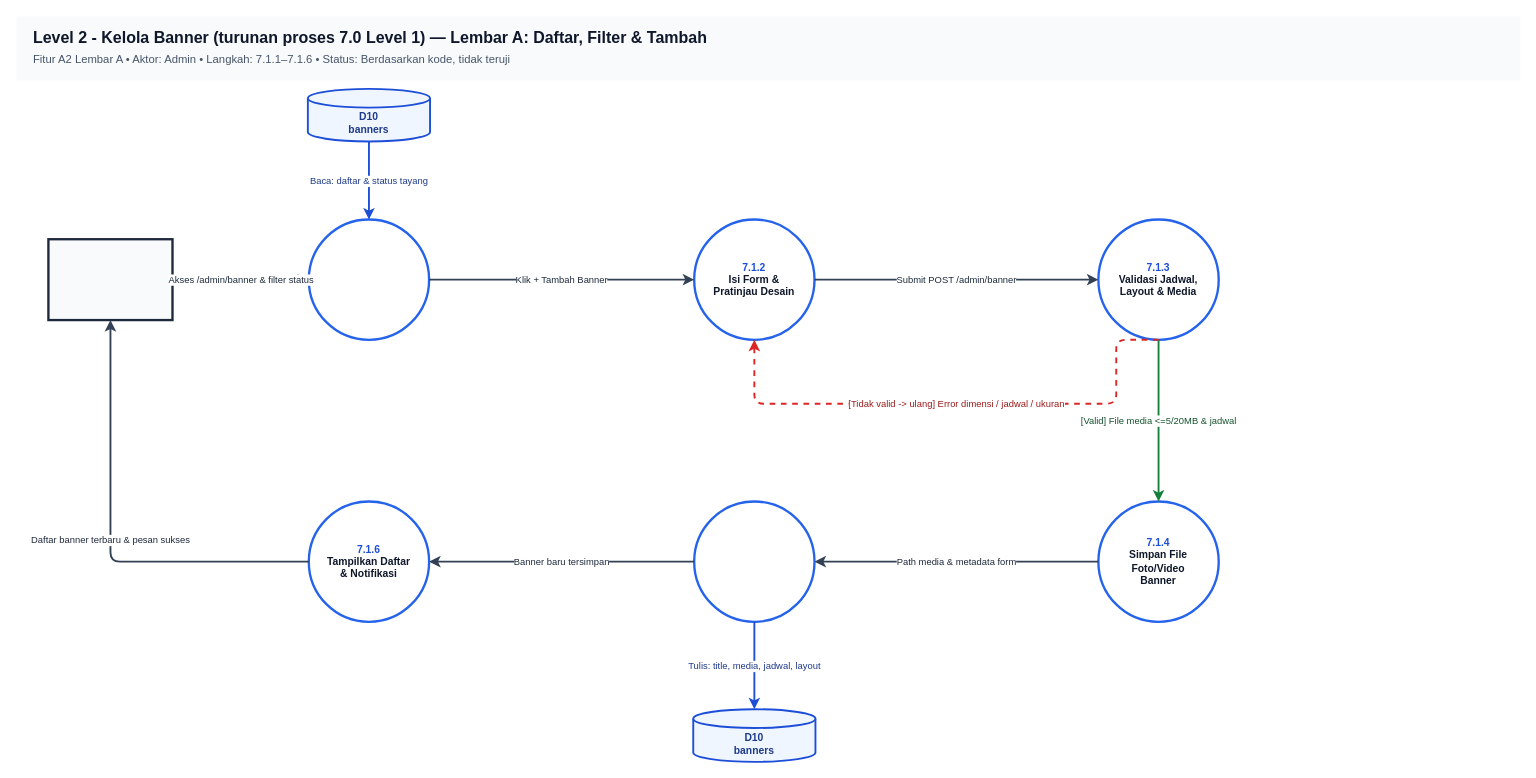
This 1536x778 diagram has some shape labels left out. The centre of each missing label's shape, as x and y in pixels:
"7.1.1 Muat & Filter Daftar Banner" belongs at point 368,279.
"7.1.5 Simpan Banner ke Basis Data" belongs at point 754,561.
"Admin Terautentikasi" belongs at point 110,279.
